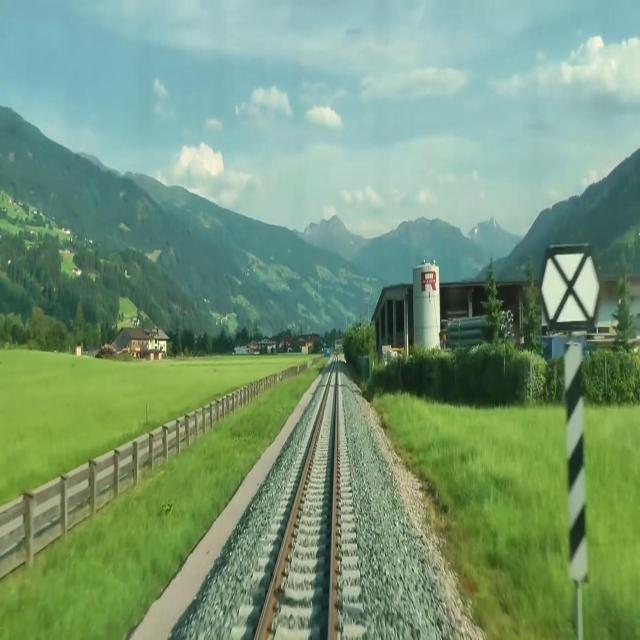rail-track: (259, 366, 335, 639)
